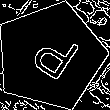P_SW: (20, 25, 80, 87)
